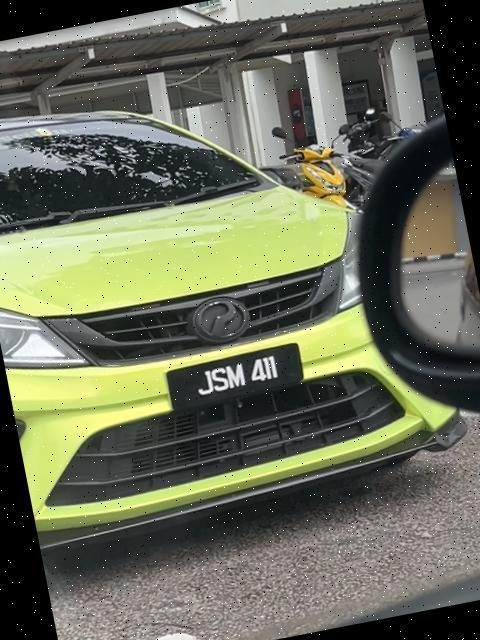JSM411: (162, 342, 310, 414)
License_Plate: (162, 342, 310, 414)
car: (1, 38, 478, 556)
